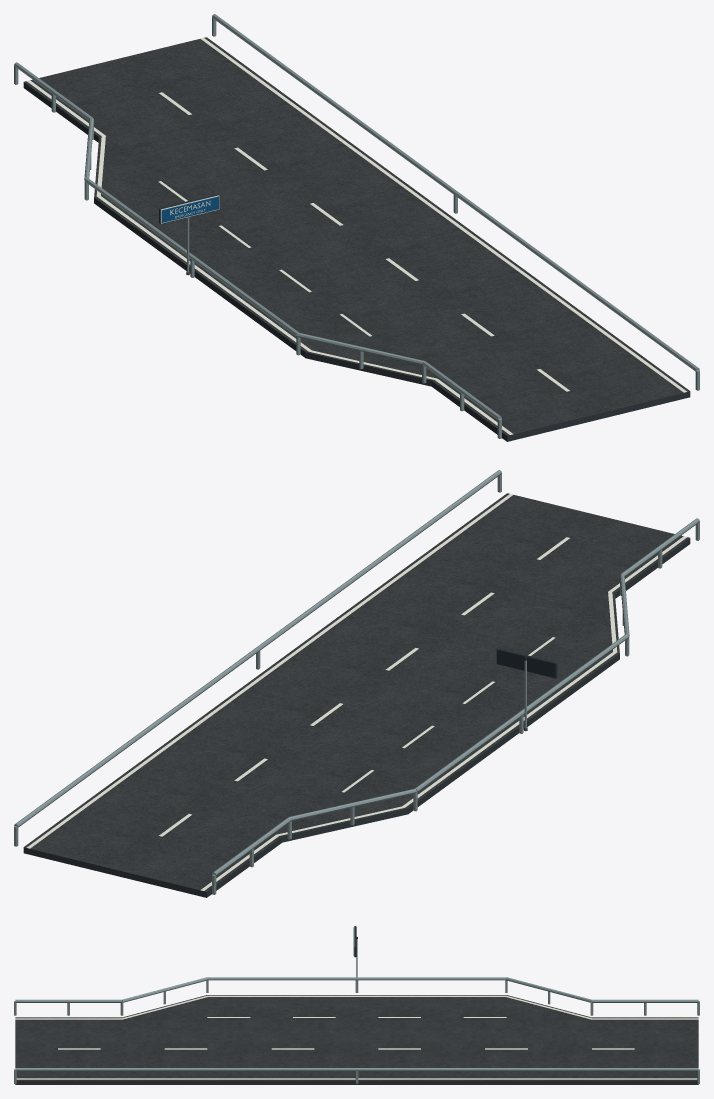
3 renders of one model, top to bottom at view 1: azimuth 30°, elevation 25°; view 2: azimuth 150°, elevation 25°; view 3: azimuth 270°, elevation 25°, orthographic. The views are drawn at different scales.
Visible parts, largest first — view 1: Road Deck, Guardrails, Road Markings, Local Street Signs, Guardrail posts; view 2: Road Deck, Guardrails, Road Markings, Local Street Signs, Guardrail posts; view 3: Road Deck, Guardrails, Road Markings, Guardrail posts.
Part boxes in pixels (x1,y1,x2,y2): Road Deck: (23, 37, 690, 441); Guardrails: (14, 14, 699, 419); Road Markings: (26, 38, 687, 434); Local Street Signs: (159, 194, 219, 275); Guardrail posts: (14, 17, 699, 438); Road Deck: (23, 493, 690, 897); Guardrails: (14, 470, 699, 875); Road Markings: (26, 494, 687, 890); Local Street Signs: (496, 648, 557, 731); Guardrail posts: (14, 473, 699, 894); Road Deck: (15, 995, 698, 1084); Guardrails: (15, 977, 698, 1071); Road Markings: (15, 995, 698, 1079); Guardrail posts: (14, 980, 699, 1083).
Size of the model in its own units: 11.45 by 3.04 by 32.12.
8 materials, 1 textured.
